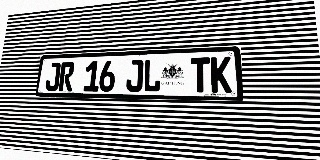1: (83, 61, 100, 92)
6: (99, 60, 116, 92)
J: (126, 59, 143, 92), (45, 62, 61, 91)
K: (211, 56, 232, 93)
L: (143, 59, 161, 92)
R: (58, 62, 75, 91)
T: (191, 57, 210, 93)
